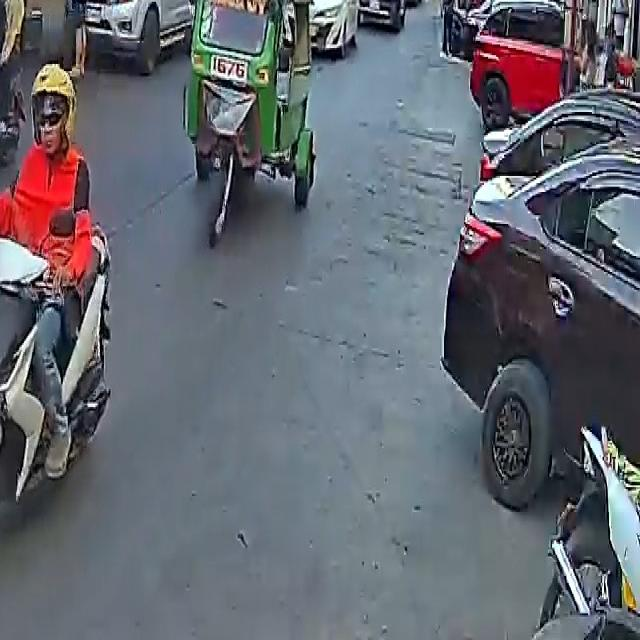car: (443, 64, 640, 554), (468, 0, 577, 130), (74, 0, 196, 73), (303, 0, 360, 57), (353, 0, 411, 28)
